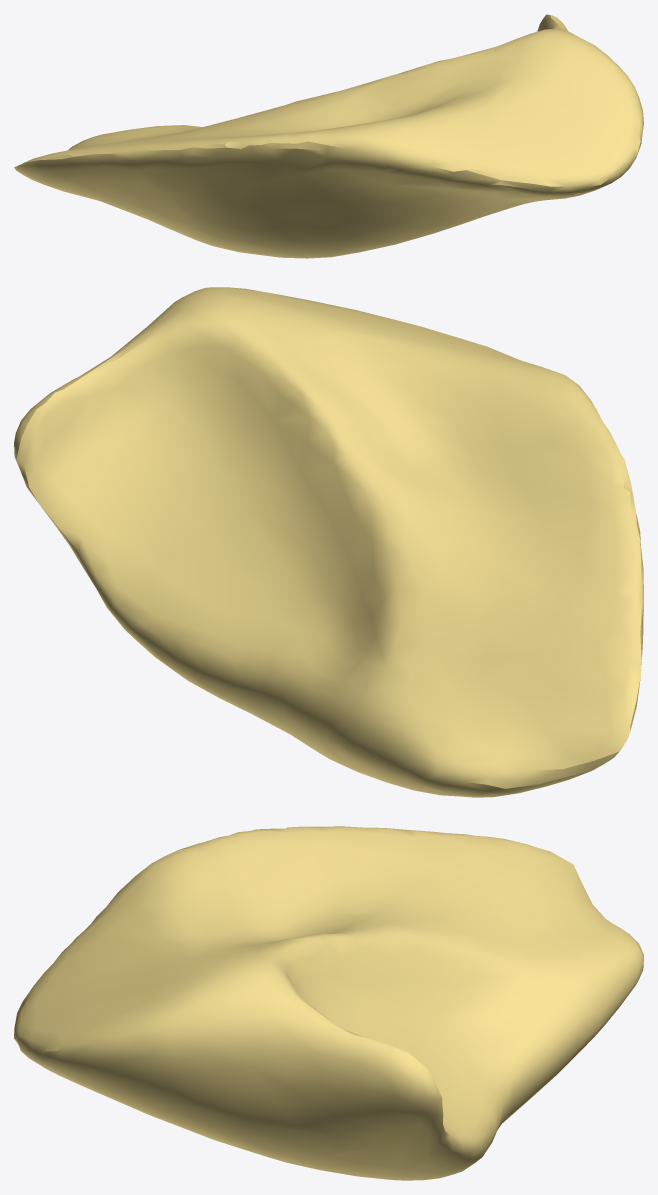
File: fma77613-r_mm2861m.glb
3 views of the same model, one above another, from view 1: azimuth 30°, elevation 25°; view 2: azimuth 150°, elevation 25°; view 3: azimuth 270°, elevation 25° (orthographic). The views are drawn at different scales.
Parts seen in each view (by area): view 1: FMA77613-R_MM2861M; view 2: FMA77613-R_MM2861M; view 3: FMA77613-R_MM2861M.
Part boxes in pixels (x1=…): FMA77613-R_MM2861M: x1=14, y1=14, x2=643, y2=258; FMA77613-R_MM2861M: x1=14, y1=287, x2=643, y2=797; FMA77613-R_MM2861M: x1=14, y1=826, x2=643, y2=1180.
Bounding box in the file's own units: 0.00992 × 0.00418 × 0.00855.
